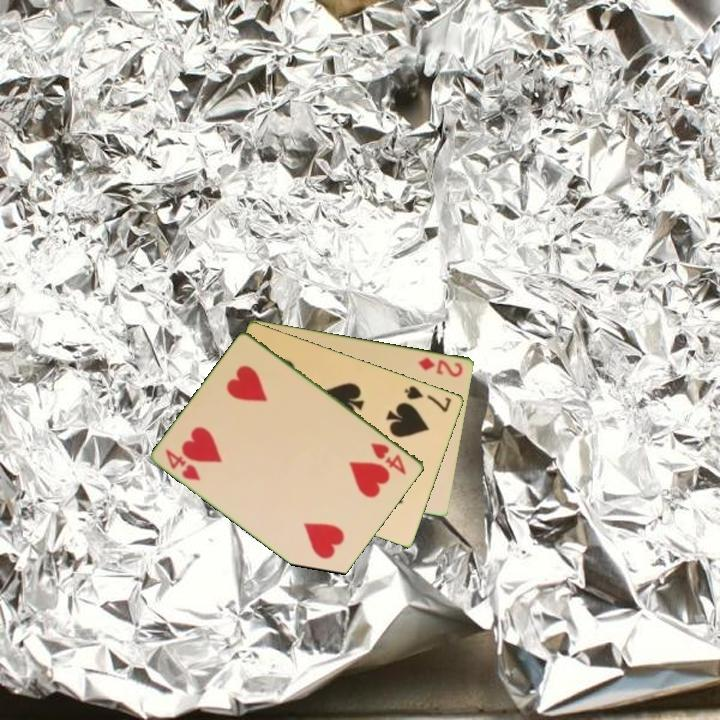2d: (415, 353, 466, 380)
4h: (368, 439, 410, 478), (162, 445, 204, 484)
7s: (401, 382, 455, 415)
